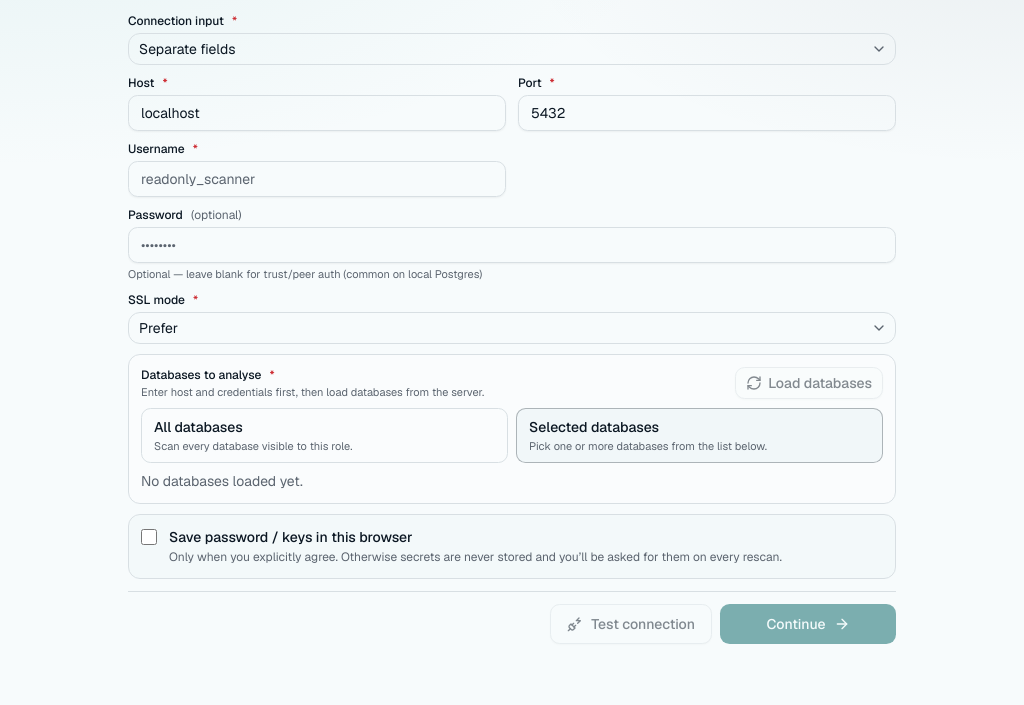
Test: ConnectionDetailsForm › tests the postgres connection and shows success
In the field labelled "Username *": (317, 179) [128, 161, 506, 197], type "reader"
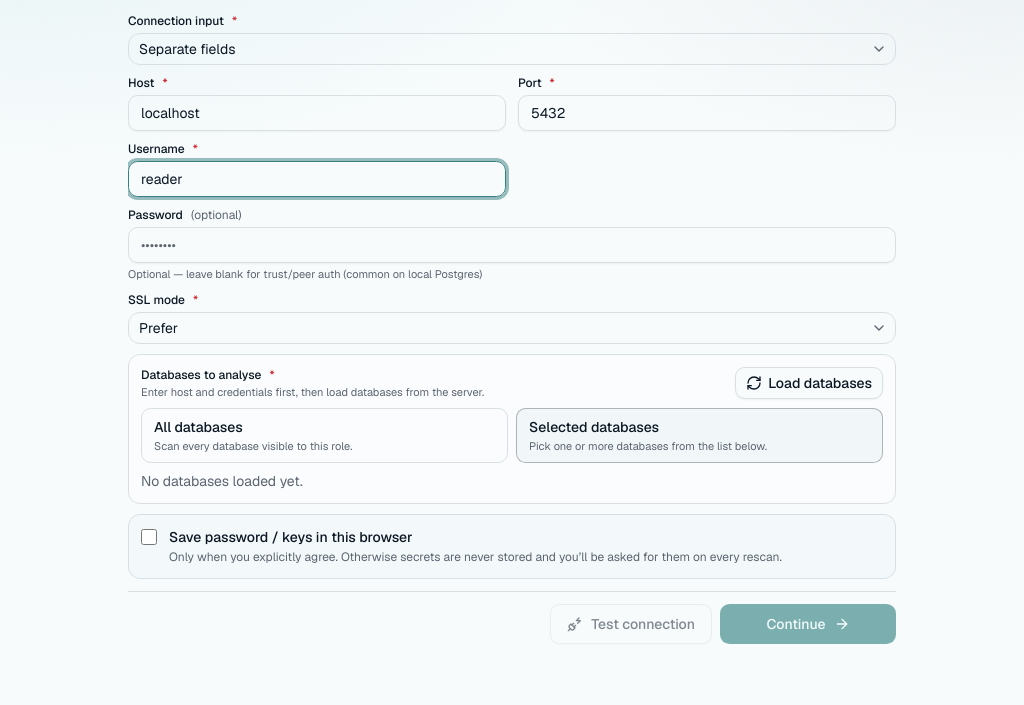
In the password field labelled "Password (optional)": (512, 245) [128, 227, 896, 263], type "secret"
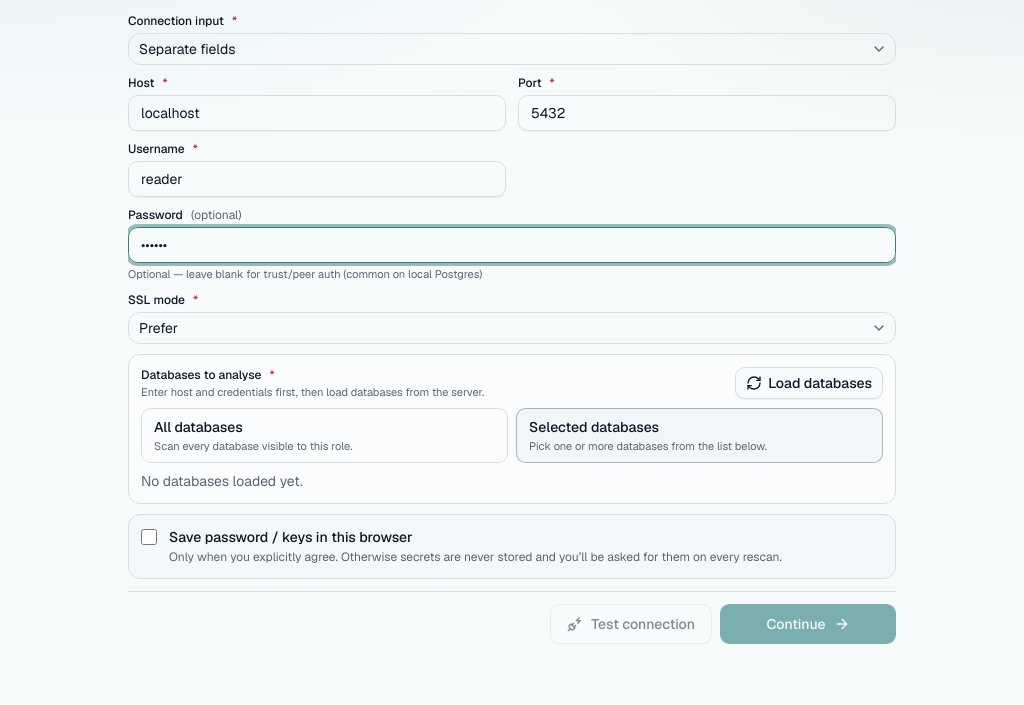
Click the button "Load databases": (809, 383) [735, 367, 883, 399]
(page scrolled)
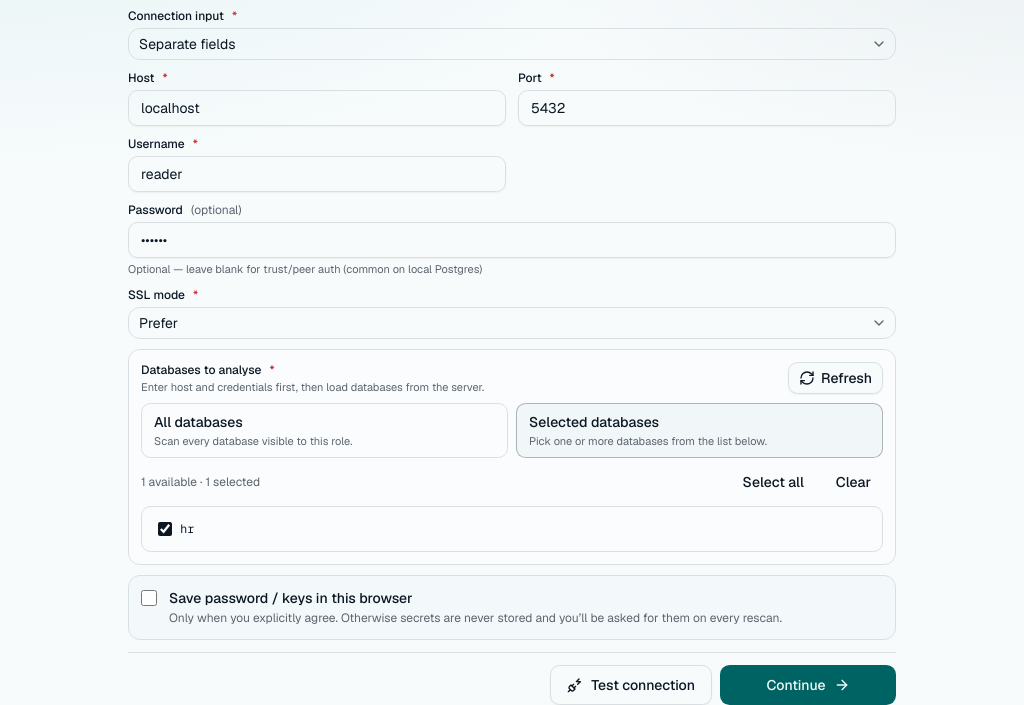
Check: the text "hr" is shown, box [180, 521, 194, 537]
Click the button "Test connection": (631, 685) [550, 665, 712, 704]
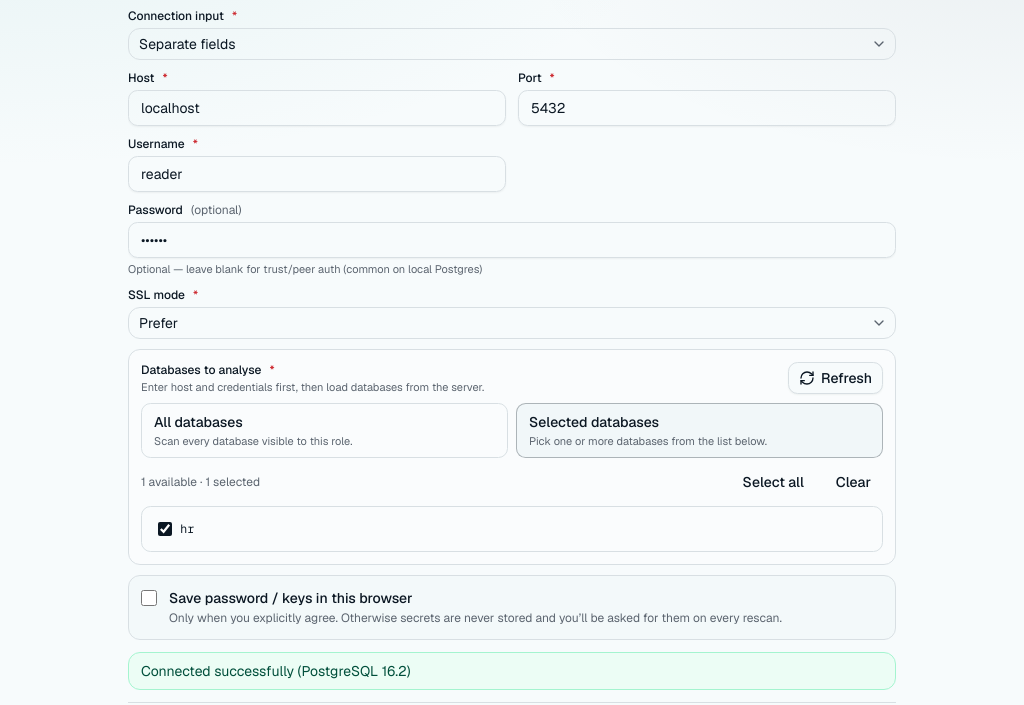
Check: the text "Connected successfully (PostgreSQL 16.2)" is shown, box [128, 652, 896, 690]
